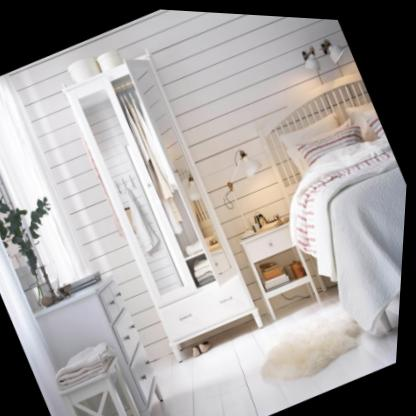Bed: (234, 57, 414, 353)
